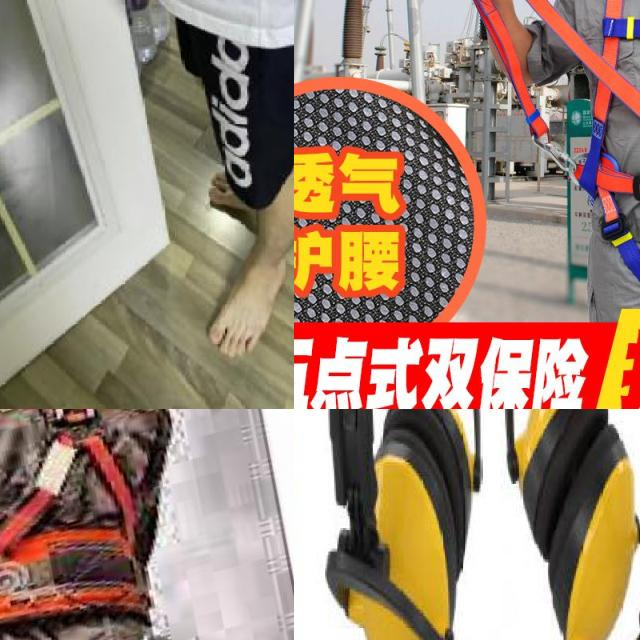Ear-protection: (331, 409, 481, 640), (520, 409, 640, 640)
Harness: (0, 409, 140, 559), (581, 0, 640, 295)
Sandals: (191, 225, 294, 380)
